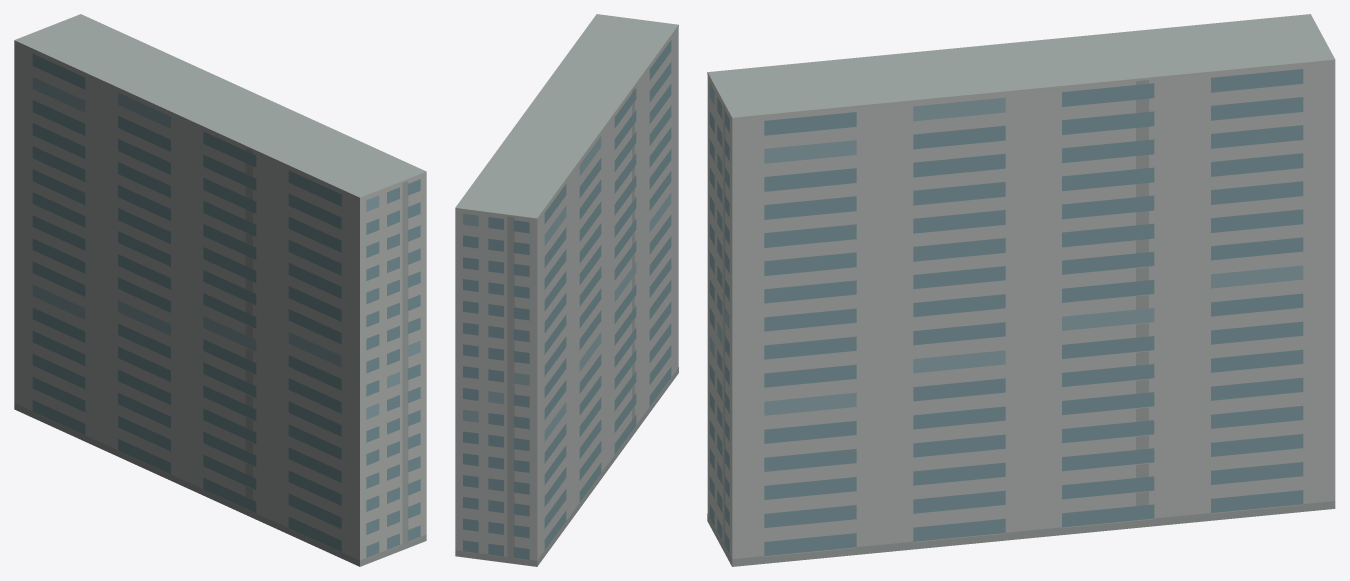
Rendered from residential-08d70b8c-6fe8-4bbd-a97c-89e009333f2d.glb.
3 views of the same model, side by side, from view 1: azimuth 30°, elevation 25°; view 2: azimuth 150°, elevation 25°; view 3: azimuth 270°, elevation 25° (orthographic). The views are drawn at different scales.
Parts seen in each view (by area): view 1: residential-08d70b8c-6fe8-4bbd-a97c-89e009333f2d.tmp; view 2: residential-08d70b8c-6fe8-4bbd-a97c-89e009333f2d.tmp; view 3: residential-08d70b8c-6fe8-4bbd-a97c-89e009333f2d.tmp.
Part boxes in pixels (x1,y1,x2,y2): residential-08d70b8c-6fe8-4bbd-a97c-89e009333f2d.tmp: [14, 14, 426, 566]; residential-08d70b8c-6fe8-4bbd-a97c-89e009333f2d.tmp: [455, 14, 678, 566]; residential-08d70b8c-6fe8-4bbd-a97c-89e009333f2d.tmp: [707, 14, 1335, 566].
Size of the model in its own units: 22.3 by 45 by 57.02.
